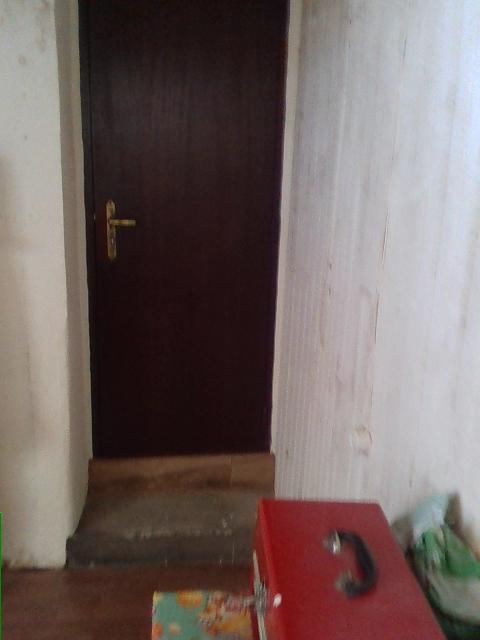door: (75, 1, 289, 455)
